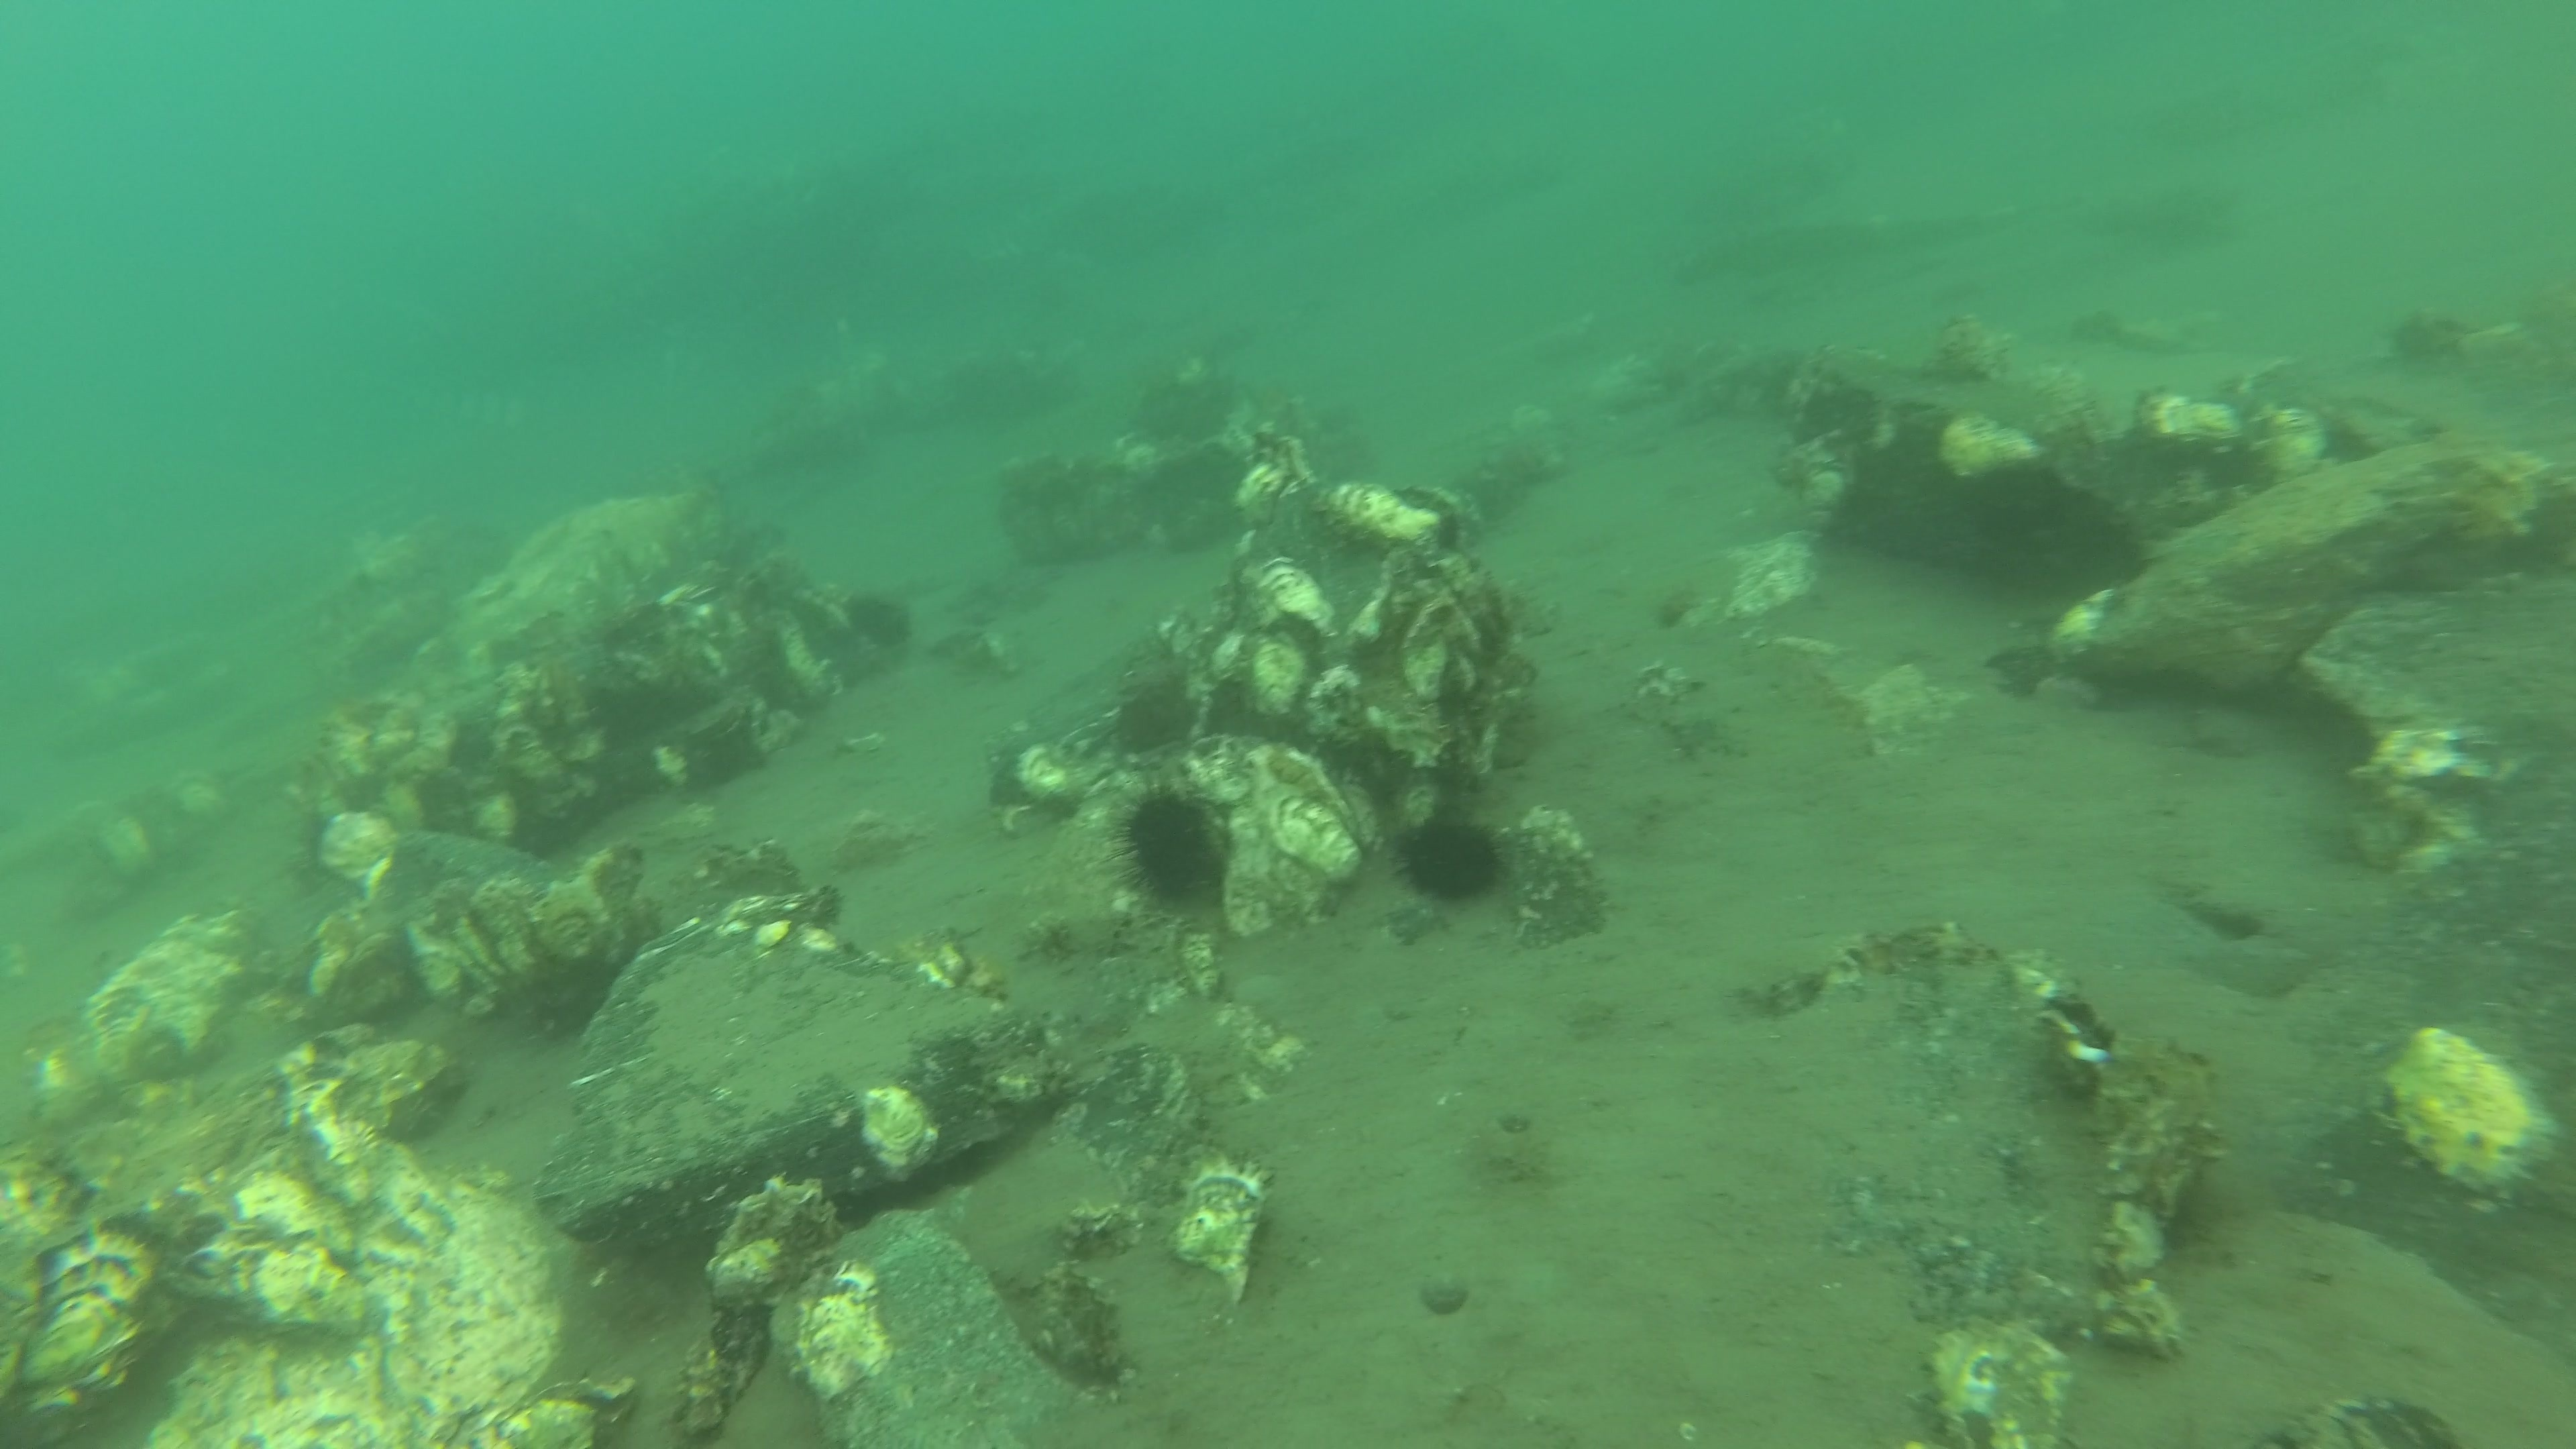echinus: (1097, 770, 1226, 909), (1959, 449, 2084, 545), (1391, 809, 1511, 906), (840, 591, 916, 653)
